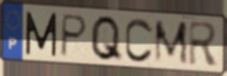C: (123, 16, 154, 64)
M: (153, 20, 190, 66), (25, 10, 59, 58)
P: (58, 13, 89, 59)
Q: (89, 14, 125, 64)
R: (187, 20, 220, 68)
